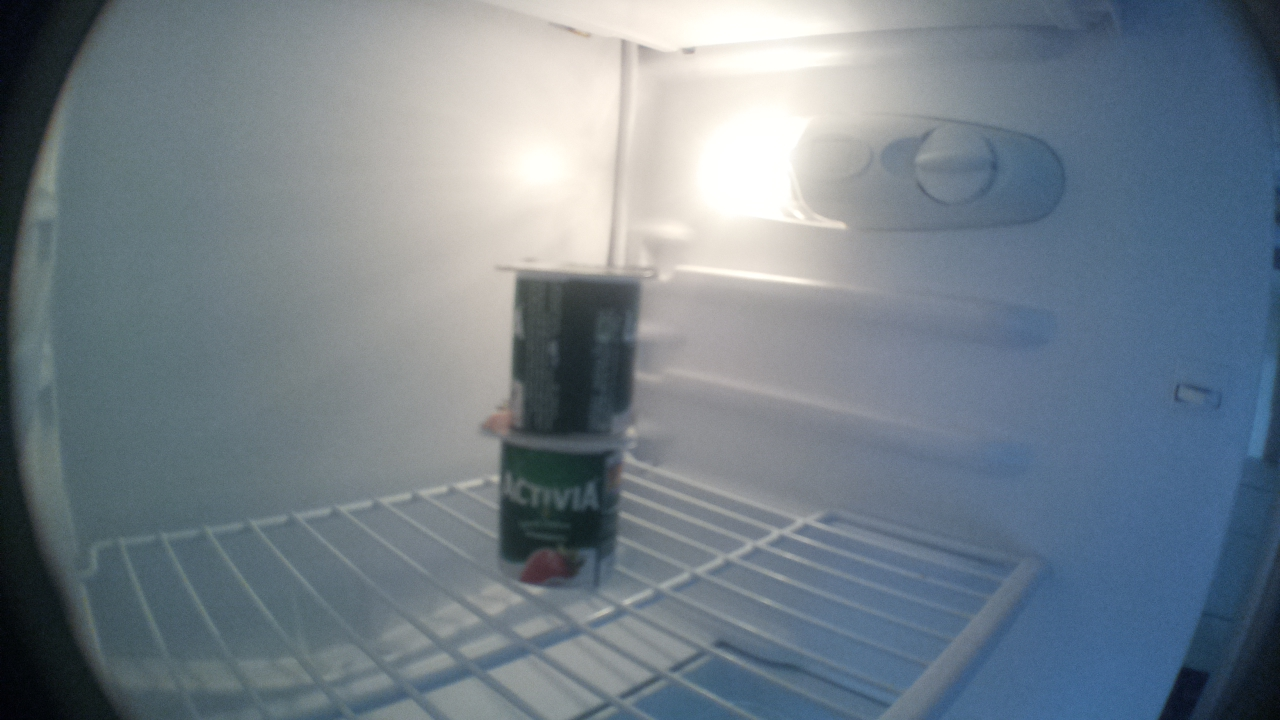yoghurt: (478, 263, 662, 436), (482, 419, 646, 590)
